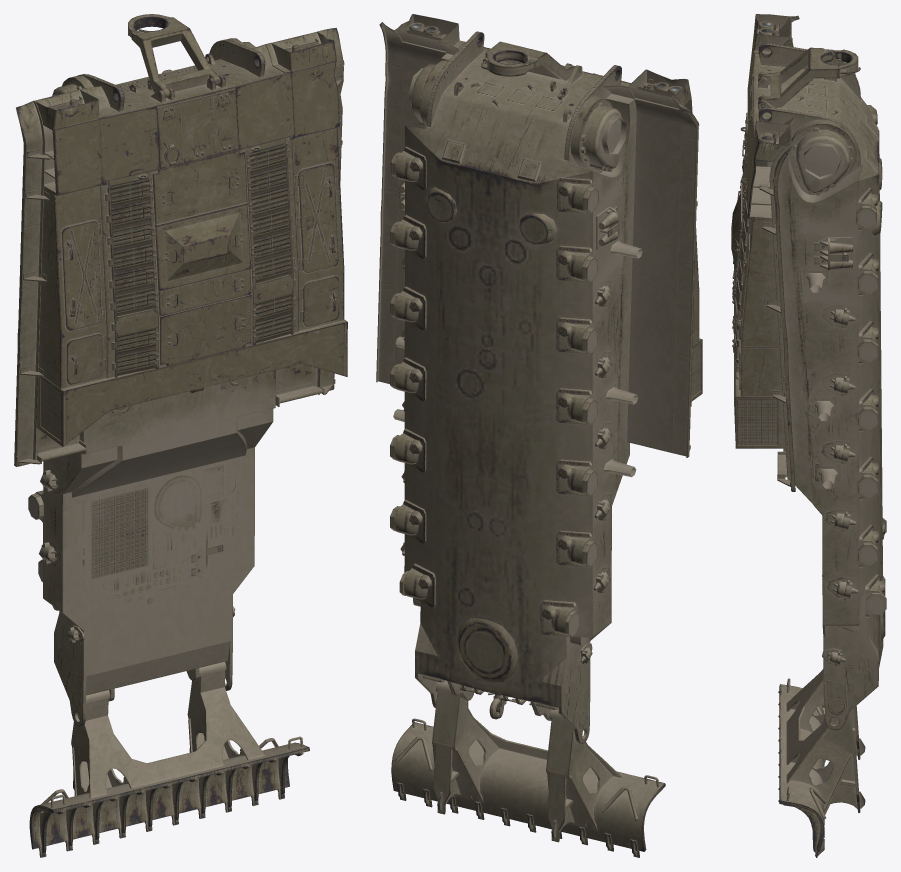
The model's file is Hull.glb.
3 renders of one model, left to right at view 1: azimuth 30°, elevation 25°; view 2: azimuth 150°, elevation 25°; view 3: azimuth 270°, elevation 25°, orthographic. The views are drawn at different scales.
Parts seen in each view (by area): view 1: set_0_group_0; view 2: set_0_group_0; view 3: set_0_group_0.
Boxes of the visible parts, x1,y1,x2,y2 form: set_0_group_0: (14,14,347,857); set_0_group_0: (376,14,702,857); set_0_group_0: (731,14,886,857).
Bounding box in the file's own units: 3.58 × 8.54 × 1.62.
Materials: 1 (1 with a texture image).
